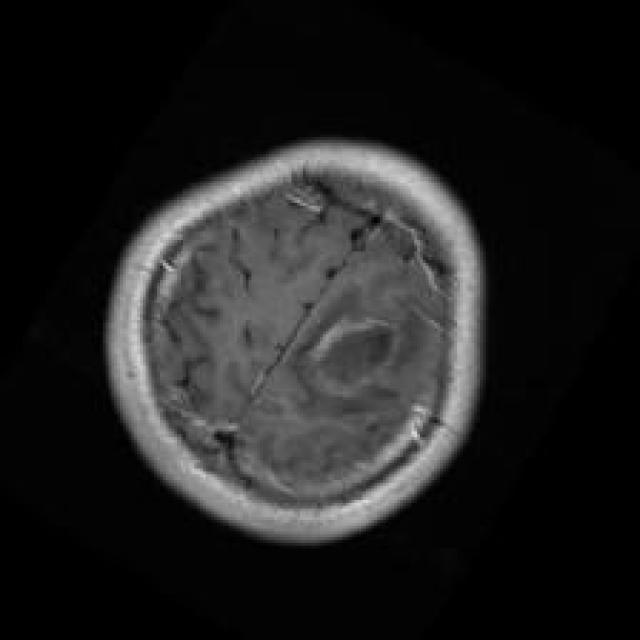glioma_tumor: (285, 307, 411, 425)
